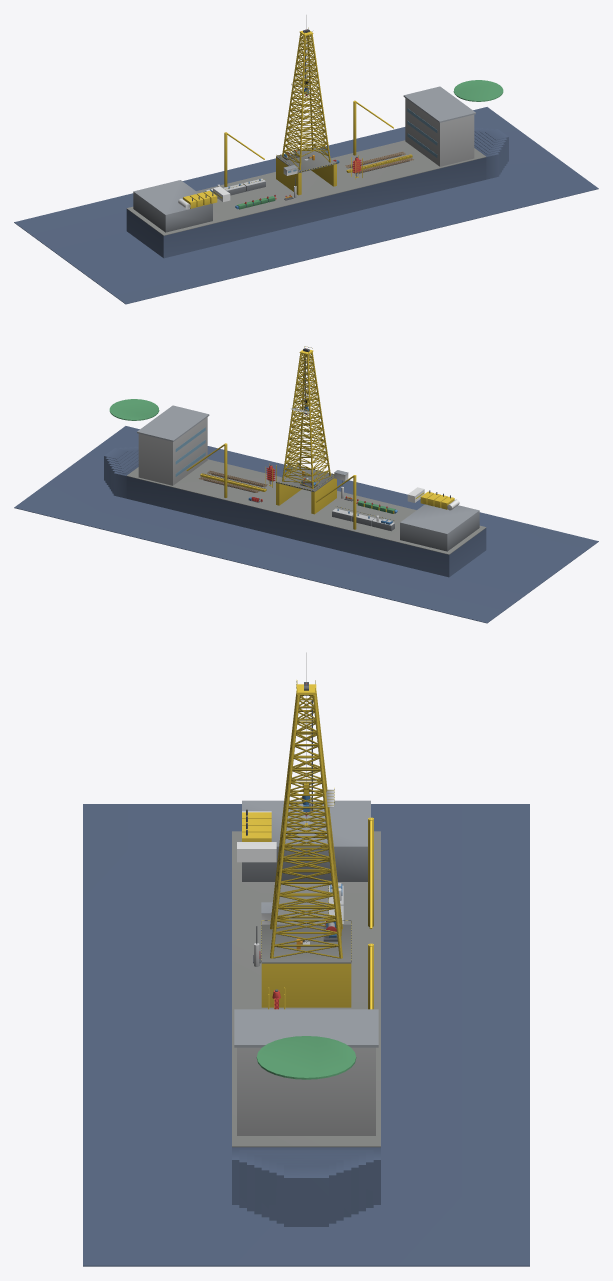
File: ship_high.glb
3 views of the same model, one above another, from view 1: azimuth 30°, elevation 25°; view 2: azimuth 150°, elevation 25°; view 3: azimuth 270°, elevation 25° (orthographic). The views are drawn at different scales.
Visible parts, largest first — view 1: hull__sea, hull__hull, mast__mast, mast__substructure, mast__floor, pipehandling__racker, generators__gensets; view 2: hull__sea, hull__hull, mast__mast, mast__substructure, mast__floor, mudtanks__tanks, pipehandling__racker, generators__gensets; view 3: hull__sea, hull__hull, mast__mast, mast__substructure, mast__floor, generators__gensets, generators__vfd.
Part boxes in pixels (x1=…): hull__sea: x1=14, y1=107, x2=598, y2=304; hull__hull: x1=126, y1=80, x2=508, y2=258; mast__mast: x1=282, y1=33, x2=330, y2=169; mast__substructure: x1=276, y1=157, x2=336, y2=195; mast__floor: x1=276, y1=146, x2=336, y2=173; pipehandling__racker: x1=345, y1=151, x2=413, y2=173; generators__gensets: x1=183, y1=190, x2=217, y2=208; hull__sea: x1=14, y1=426, x2=598, y2=623; hull__hull: x1=104, y1=399, x2=486, y2=577; mast__mast: x1=282, y1=352, x2=330, y2=488; mast__substructure: x1=276, y1=478, x2=336, y2=514; mast__floor: x1=276, y1=466, x2=334, y2=492; mudtanks__tanks: x1=332, y1=506, x2=394, y2=531; pipehandling__racker: x1=199, y1=470, x2=267, y2=492; generators__gensets: x1=420, y1=490, x2=454, y2=509; hull__sea: x1=83, y1=804, x2=529, y2=1266; hull__hull: x1=232, y1=800, x2=380, y2=1226; mast__mast: x1=270, y1=691, x2=342, y2=958; mast__substructure: x1=261, y1=963, x2=351, y2=1007; mast__floor: x1=261, y1=920, x2=351, y2=963; generators__gensets: x1=242, y1=809, x2=271, y2=841; generators__vfd: x1=237, y1=842, x2=276, y2=862.
Size of the model in its own units: 220 by 92.72 by 90.
